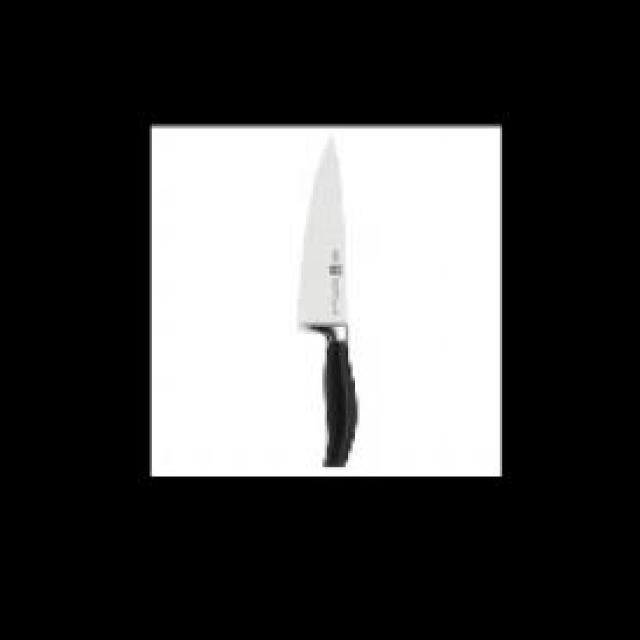knife: (301, 120, 362, 479)
